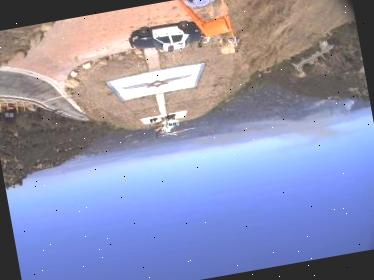smoke: (268, 97, 364, 158)
